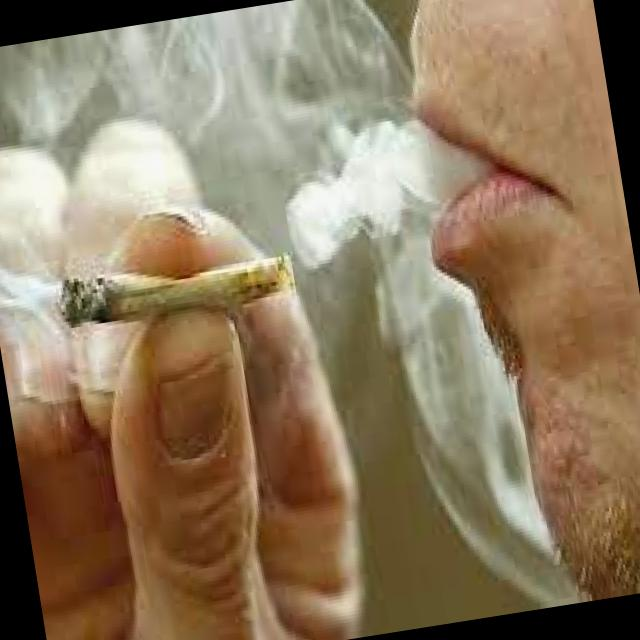smoke: (42, 236, 305, 342)
